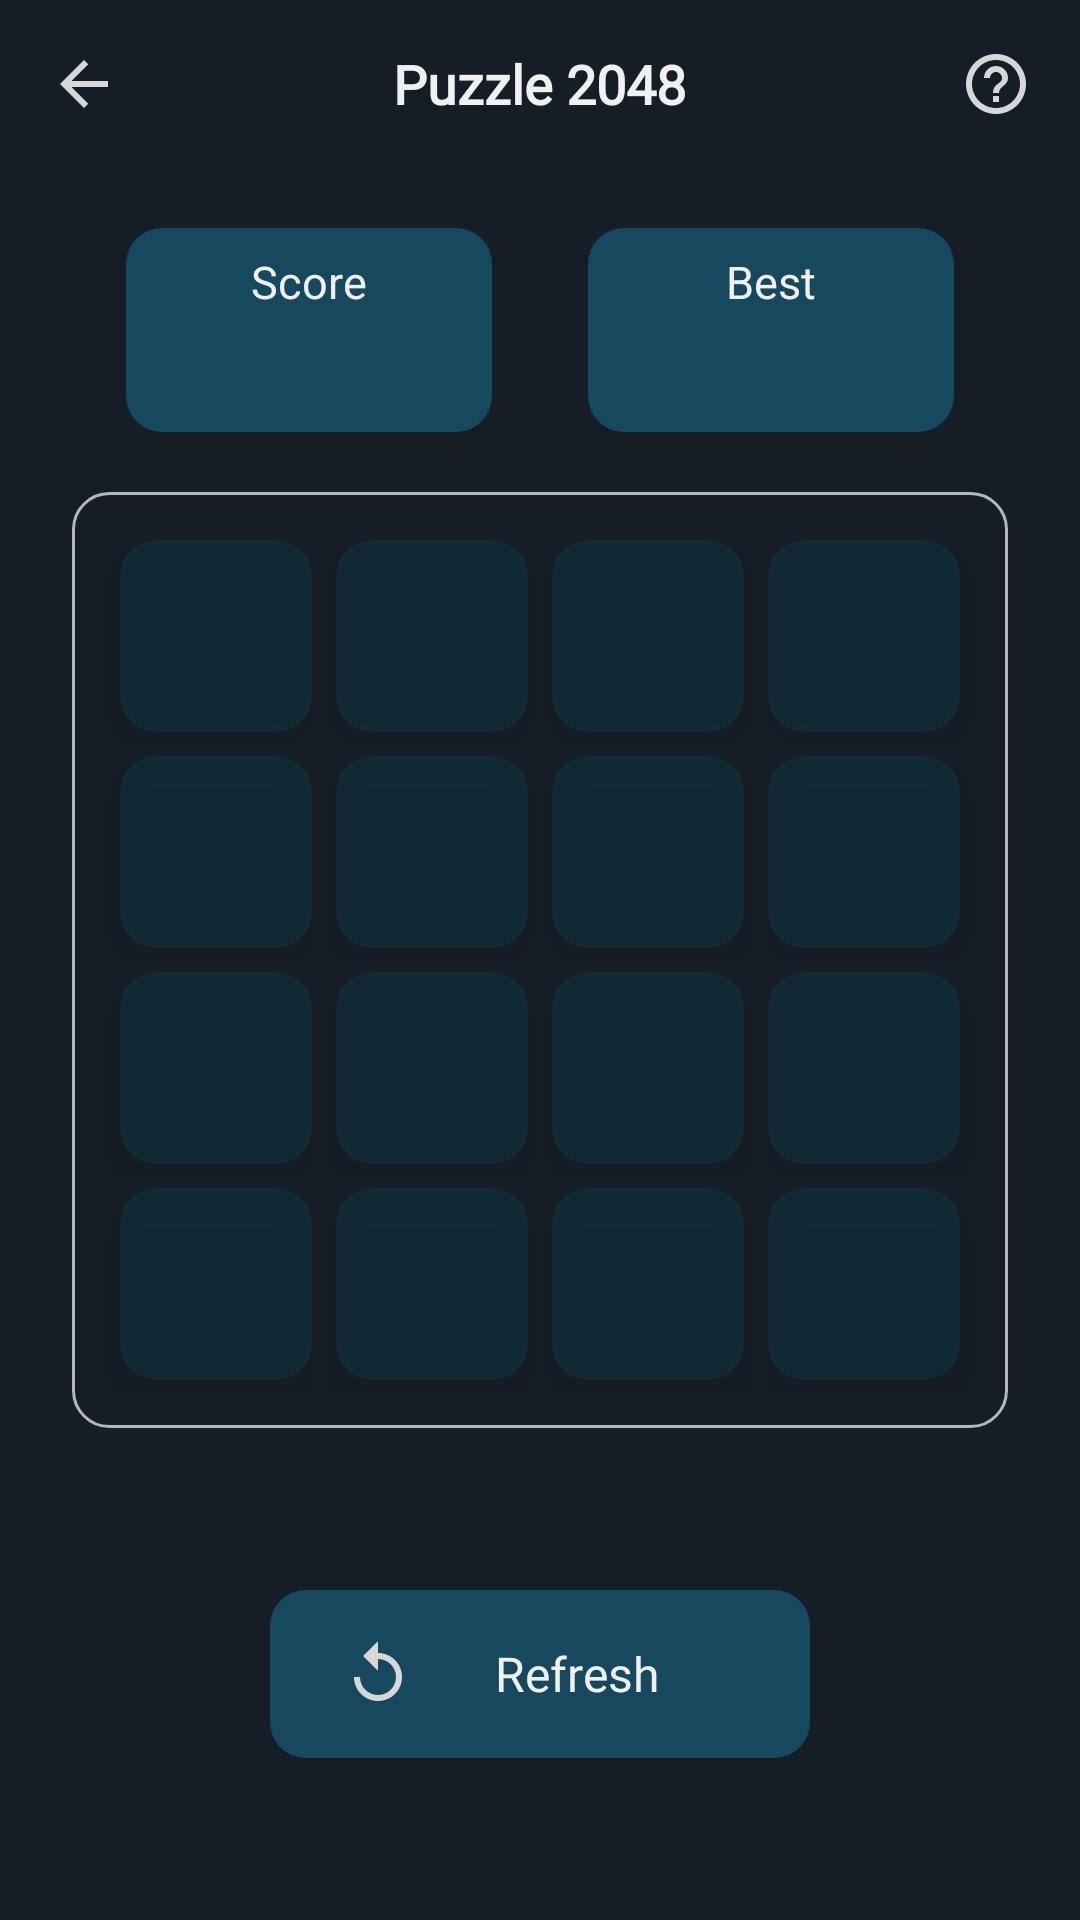

Screen size 1080 x 1920. Icon name, then its box in pixels as (x1, y1, x2, y2):
How to play game: (966, 54, 1026, 114)
Navigate Up: (60, 60, 108, 108)
